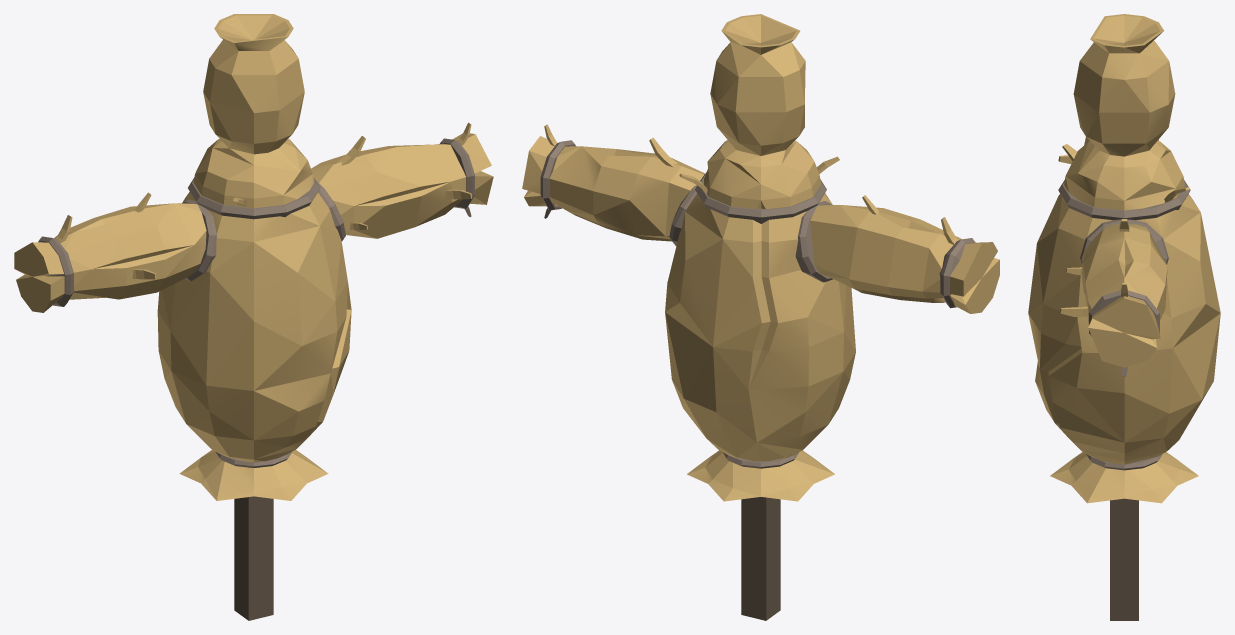
File: _TARGET_1.fbx
3 renders of one model, left to right at view 1: azimuth 30°, elevation 25°; view 2: azimuth 150°, elevation 25°; view 3: azimuth 270°, elevation 25°, orthographic.
Parts seen in each view (by area): view 1: TARGET_1; view 2: TARGET_1; view 3: TARGET_1.
Boxes of the visible parts, x1,y1,x2,y2 form: TARGET_1: [14, 14, 493, 620]; TARGET_1: [522, 14, 999, 620]; TARGET_1: [1028, 14, 1220, 620].
Bounding box in the file's own units: 163 × 205 × 61.3.
